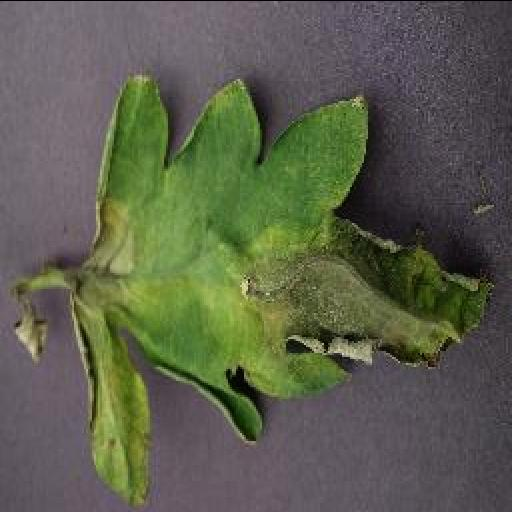disease_tomato: (62, 72, 492, 508)
